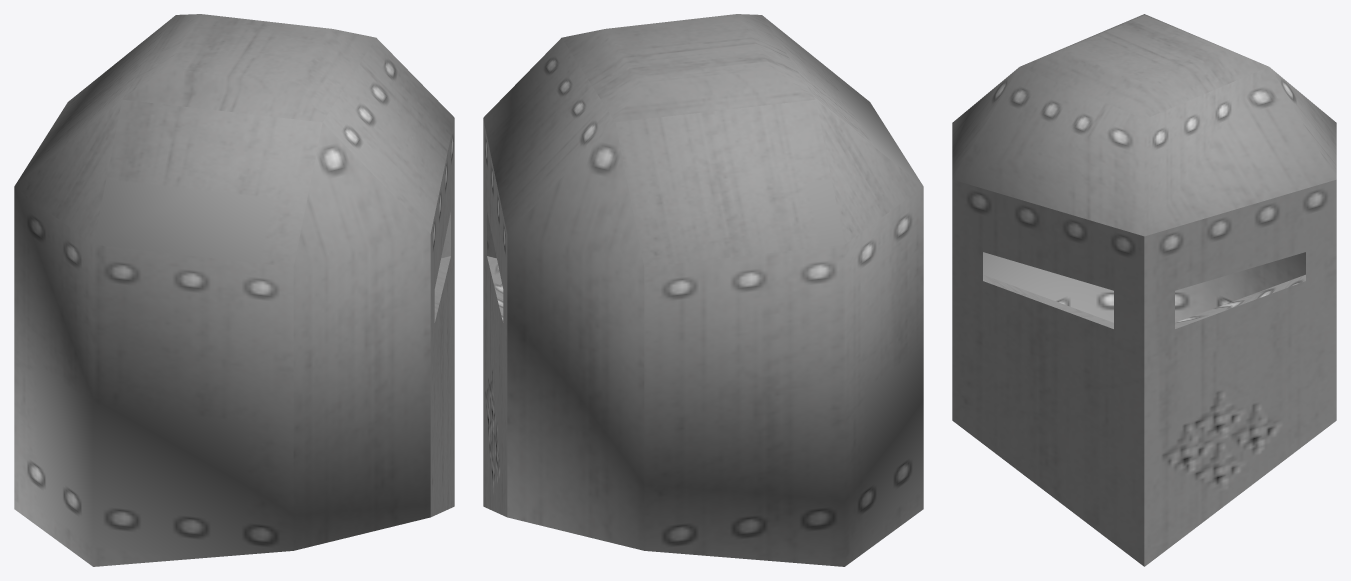
Rendered from knightHelmet.fbx.
The picture shows the model from 3 angles, left to right: view 1: azimuth 30°, elevation 25°; view 2: azimuth 150°, elevation 25°; view 3: azimuth 270°, elevation 25°; orthographic projection. The views are drawn at different scales.
Parts seen in each view (by area): view 1: Helmet; view 2: Helmet; view 3: Helmet.
Boxes of the visible parts, x1,y1,x2,y2 form: Helmet: (14,14,454,566); Helmet: (483,14,923,566); Helmet: (952,14,1336,566).
Bounding box in the file's own units: 106 × 129 × 104.
